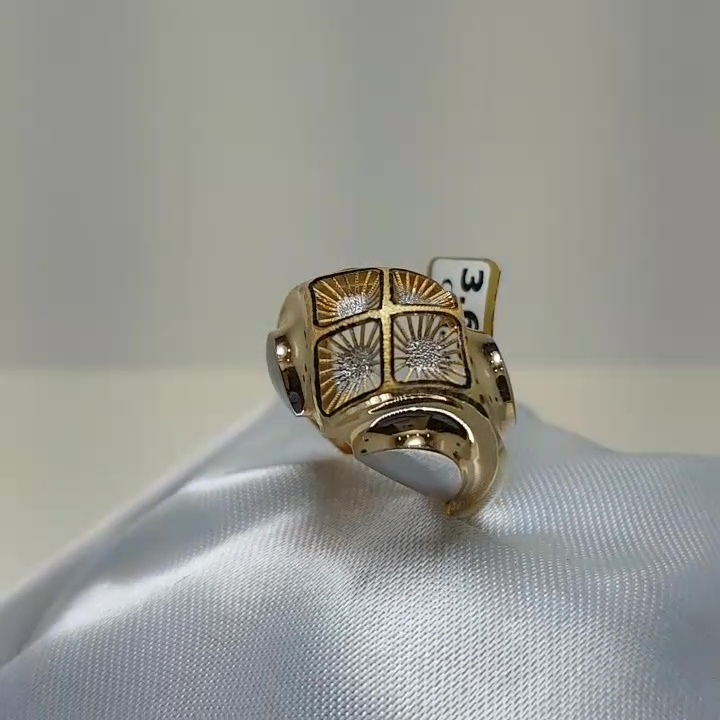Ring 2: (257, 249, 565, 541)
